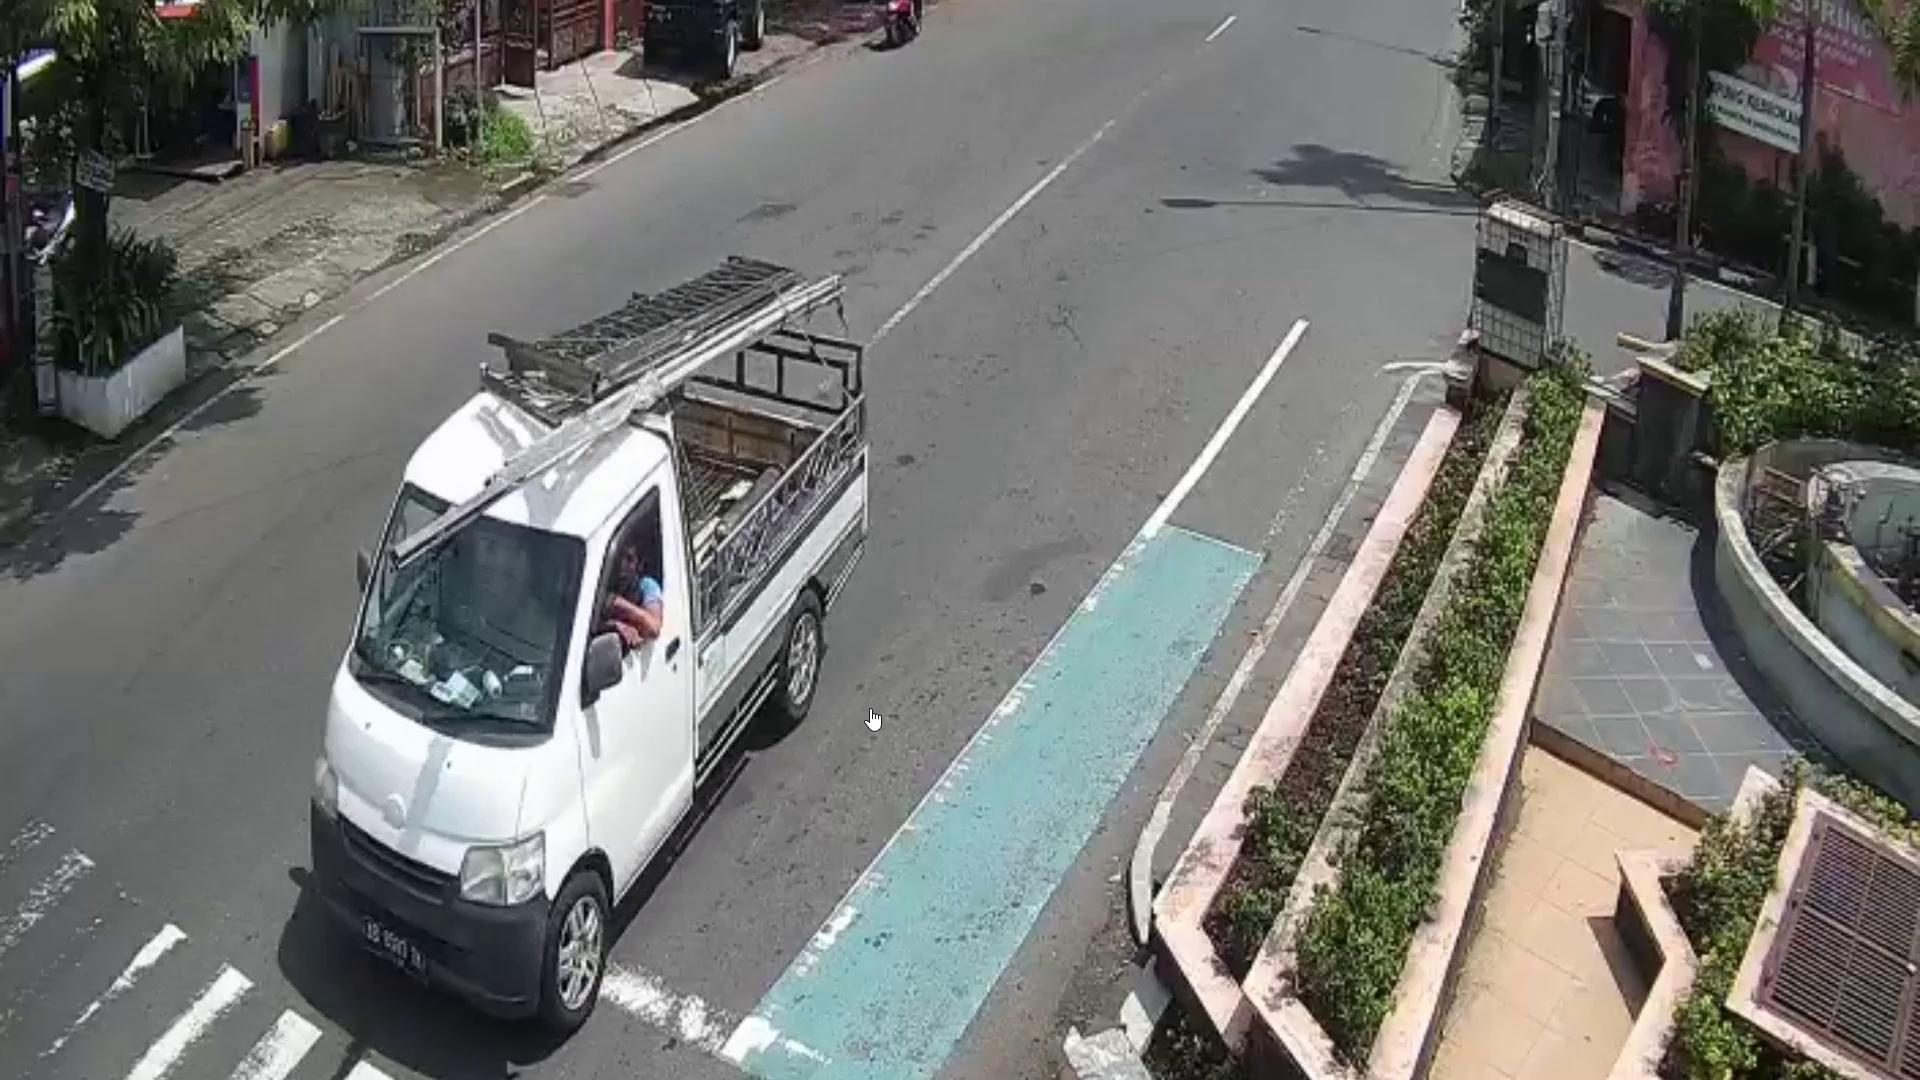car: (315, 332, 872, 1034)
